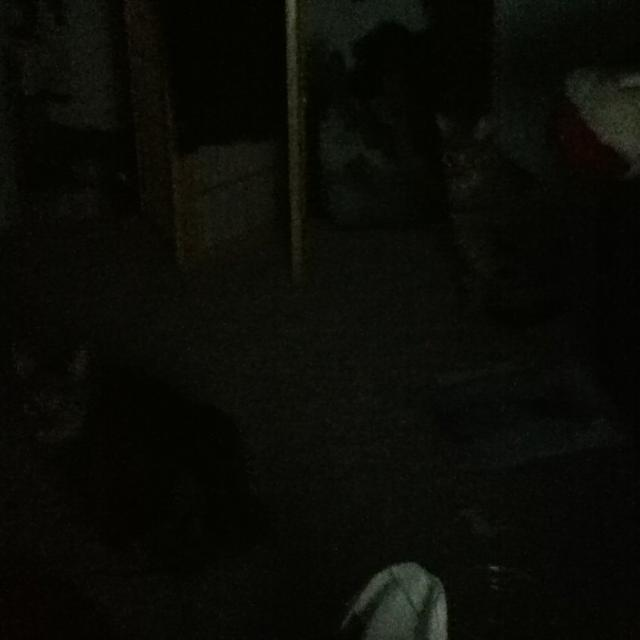Cat: (5, 320, 274, 582), (408, 87, 572, 359)
